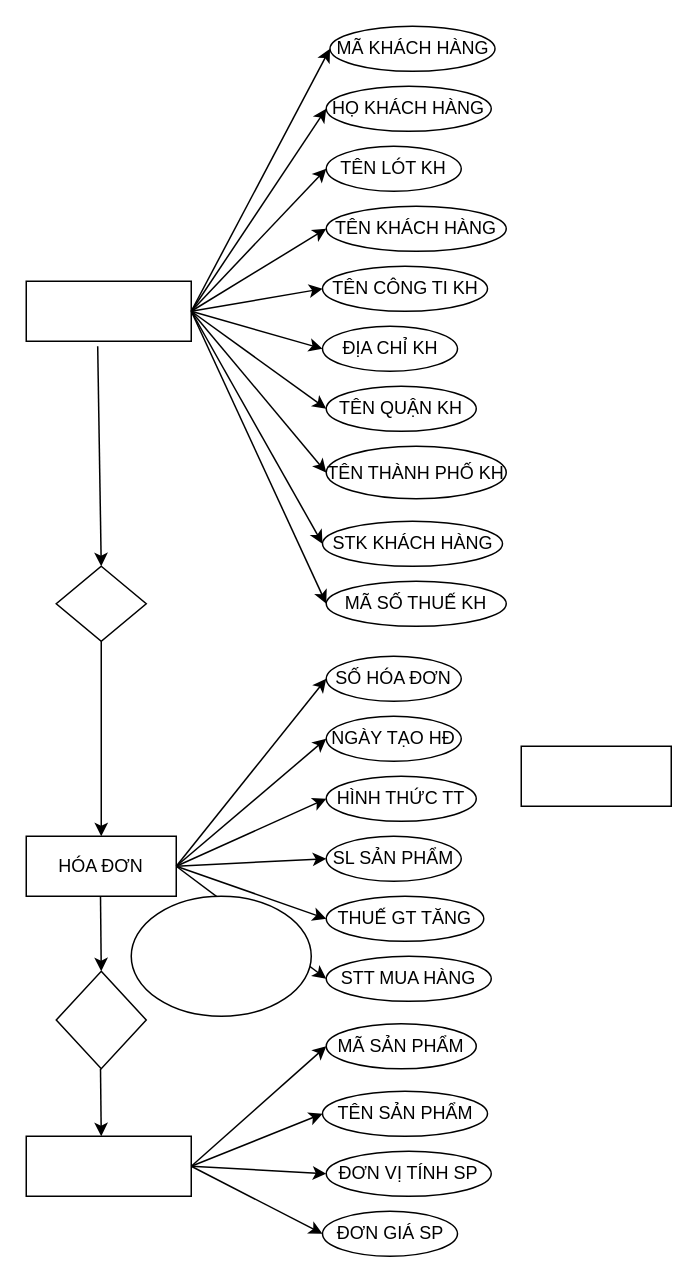
Some shapes in this 698 by 1283 pixel diagram are drawn without their labels. Here are the shapes that lost their labels. From the top down, the box of each, then its label:
(25, 280, 191, 341): KHÁCH HÀNG
(55, 565, 146, 641): MUA
(520, 745, 671, 806): CHI TIẾT HĐ
(55, 970, 146, 1069): THUỘC
(25, 1135, 191, 1196): SẢN PHẨM
